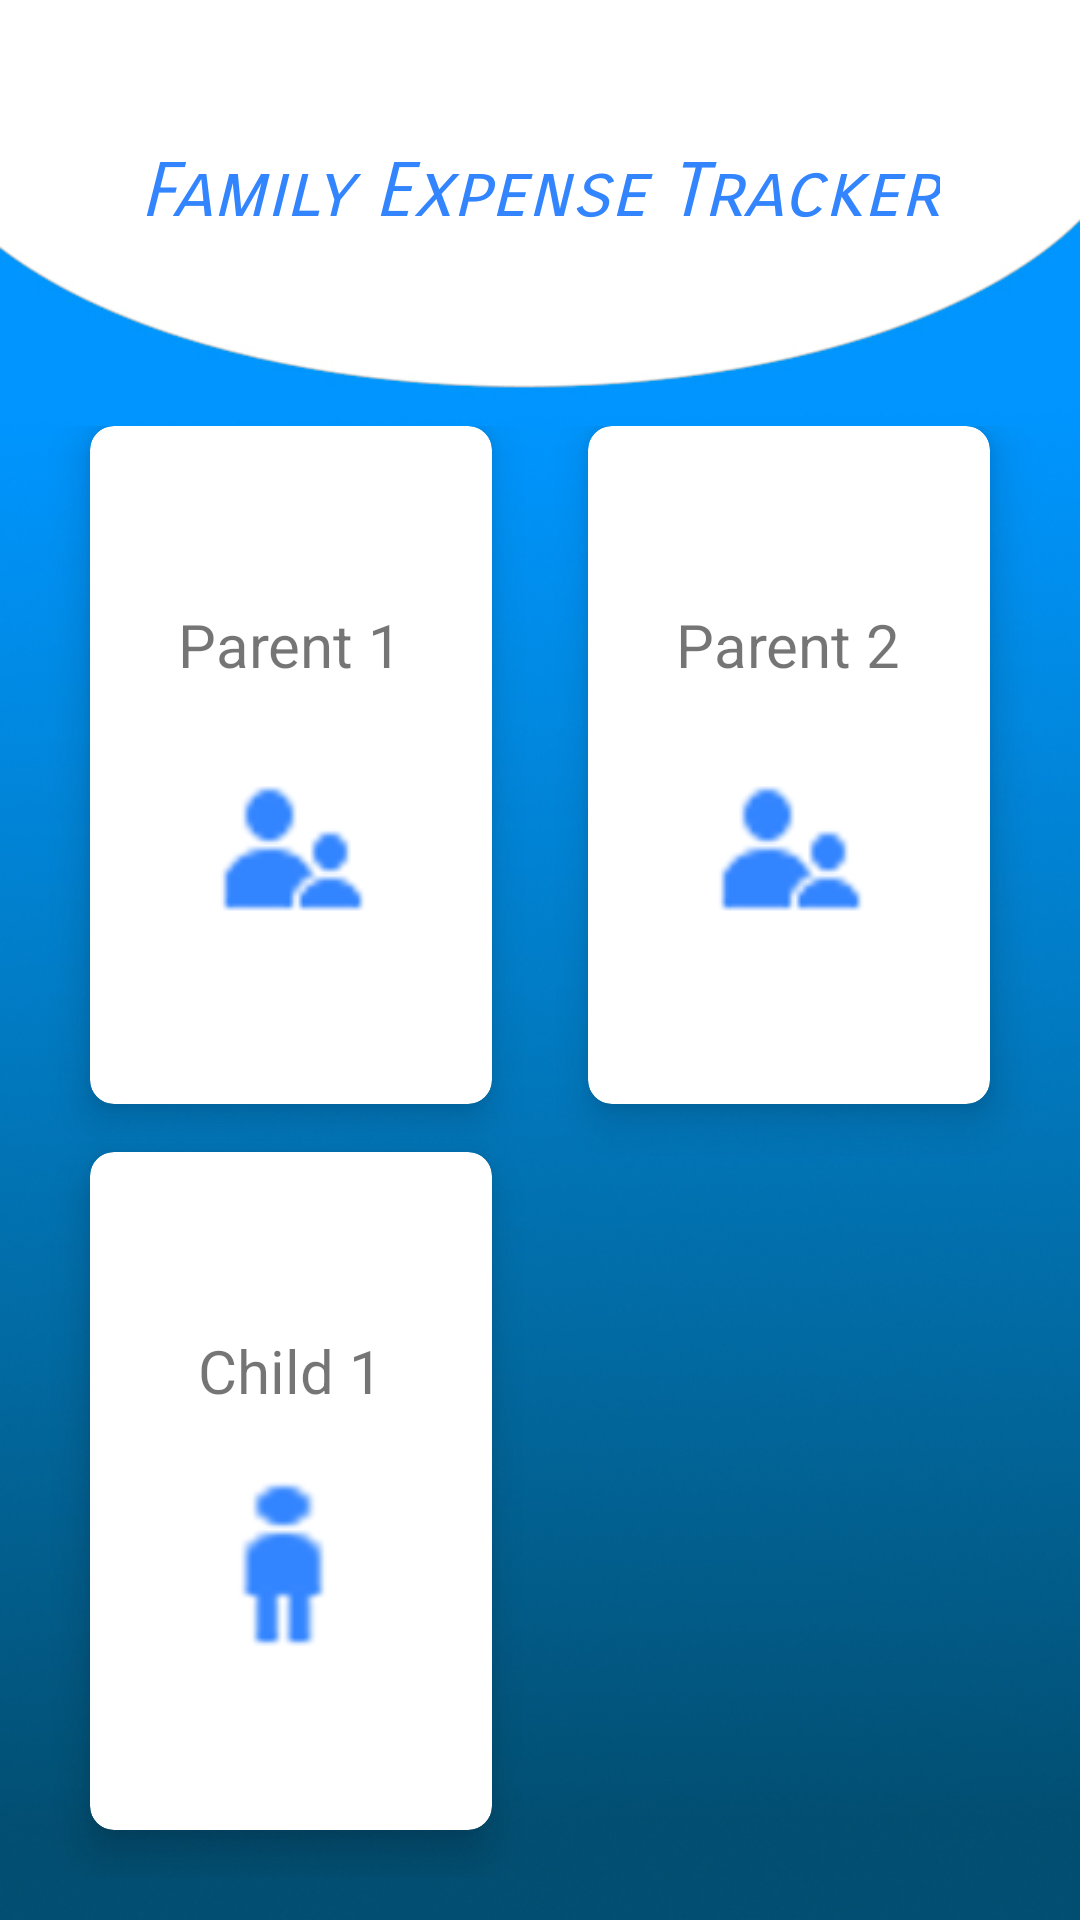

Icons on this 1080 x 1920 Android screen, each with its box as (x1, y1, x2, y2):
guardian: (223, 787, 363, 911), (721, 787, 861, 911)
